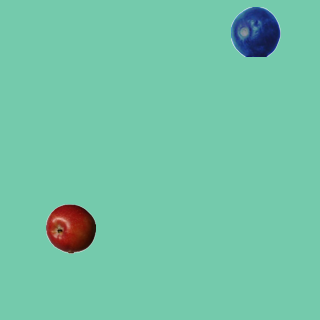Apple Braeburn: (45, 203, 95, 253)
Huckleberry: (230, 6, 280, 56)
